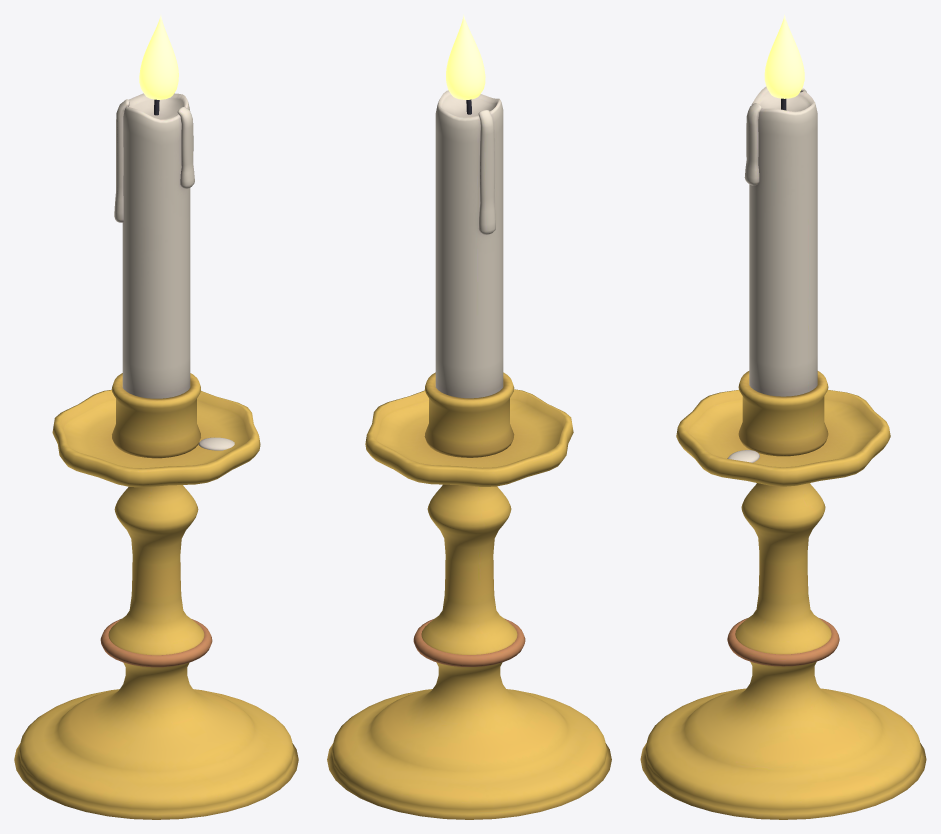
The model's file is candlestick.glb.
3 renders of one model, left to right at view 1: azimuth 30°, elevation 25°; view 2: azimuth 150°, elevation 25°; view 3: azimuth 270°, elevation 25°, orthographic.
Visible parts, largest first — view 1: candlestick_body, candlestick_flame; view 2: candlestick_body, candlestick_flame; view 3: candlestick_body, candlestick_flame.
Part boxes in pixels (x1,y1,x2,y2): candlestick_body: (14,93,298,819); candlestick_flame: (139,15,178,99); candlestick_body: (327,90,611,819); candlestick_flame: (446,14,485,99); candlestick_body: (640,86,926,819); candlestick_flame: (764,14,804,98).
Size of the model in its own units: 0.0966 by 0.2794 by 0.0966.
2 materials, 1 textured.
